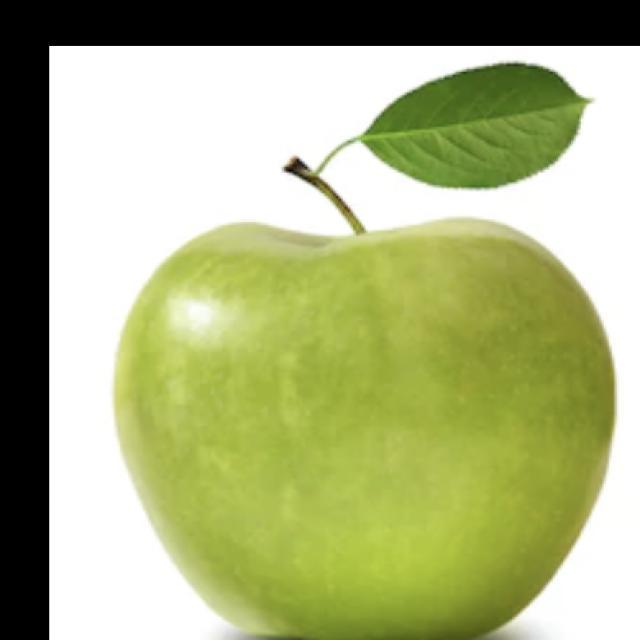Fresh Apple: (143, 230, 597, 640)
